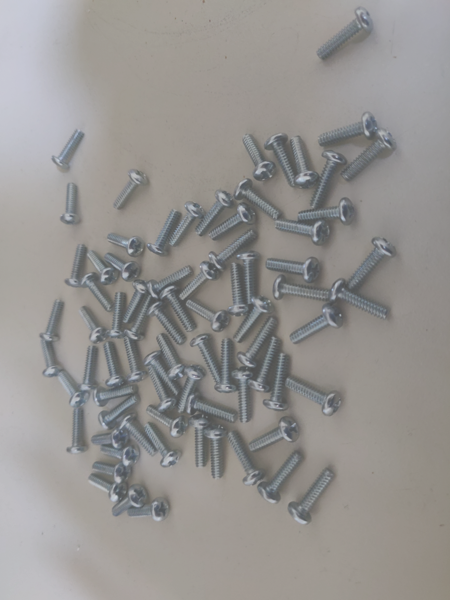shortscrew: (341, 129, 397, 182), (317, 7, 374, 59), (288, 467, 336, 525), (329, 278, 392, 321), (347, 238, 396, 292), (257, 451, 305, 505), (286, 376, 343, 417), (227, 431, 266, 487), (290, 304, 343, 345), (234, 178, 284, 221), (208, 229, 258, 272), (311, 151, 348, 209), (318, 112, 379, 147), (237, 317, 278, 369), (249, 415, 301, 453), (195, 190, 236, 238), (209, 203, 259, 241), (146, 300, 187, 346), (248, 337, 281, 393), (167, 201, 205, 249), (159, 284, 196, 333), (143, 422, 182, 468), (265, 134, 298, 188), (118, 414, 158, 458), (143, 352, 181, 398), (190, 335, 223, 387), (147, 209, 182, 258), (179, 262, 221, 302), (243, 133, 277, 182), (186, 392, 238, 424), (290, 134, 320, 189), (98, 394, 142, 431), (146, 363, 178, 413), (147, 265, 194, 299), (263, 353, 290, 412), (275, 218, 331, 246), (298, 198, 356, 225), (273, 275, 331, 302), (185, 299, 231, 333), (145, 405, 188, 439), (156, 333, 186, 381), (266, 258, 321, 284), (52, 129, 86, 171), (115, 170, 150, 210), (177, 365, 205, 415), (82, 272, 116, 313), (231, 368, 255, 424), (124, 294, 152, 341), (204, 425, 227, 480), (111, 484, 148, 518), (215, 337, 237, 394), (88, 473, 129, 503), (123, 280, 150, 325), (124, 338, 149, 384), (39, 299, 65, 343), (79, 306, 109, 344), (88, 251, 120, 285), (103, 342, 126, 389), (60, 371, 90, 407), (105, 253, 142, 282), (127, 498, 171, 522), (94, 384, 138, 408), (66, 409, 88, 455), (106, 233, 146, 258), (64, 244, 87, 287), (78, 345, 99, 392), (98, 445, 141, 467), (92, 461, 131, 484), (91, 428, 129, 450), (60, 184, 80, 225), (40, 339, 61, 378)
